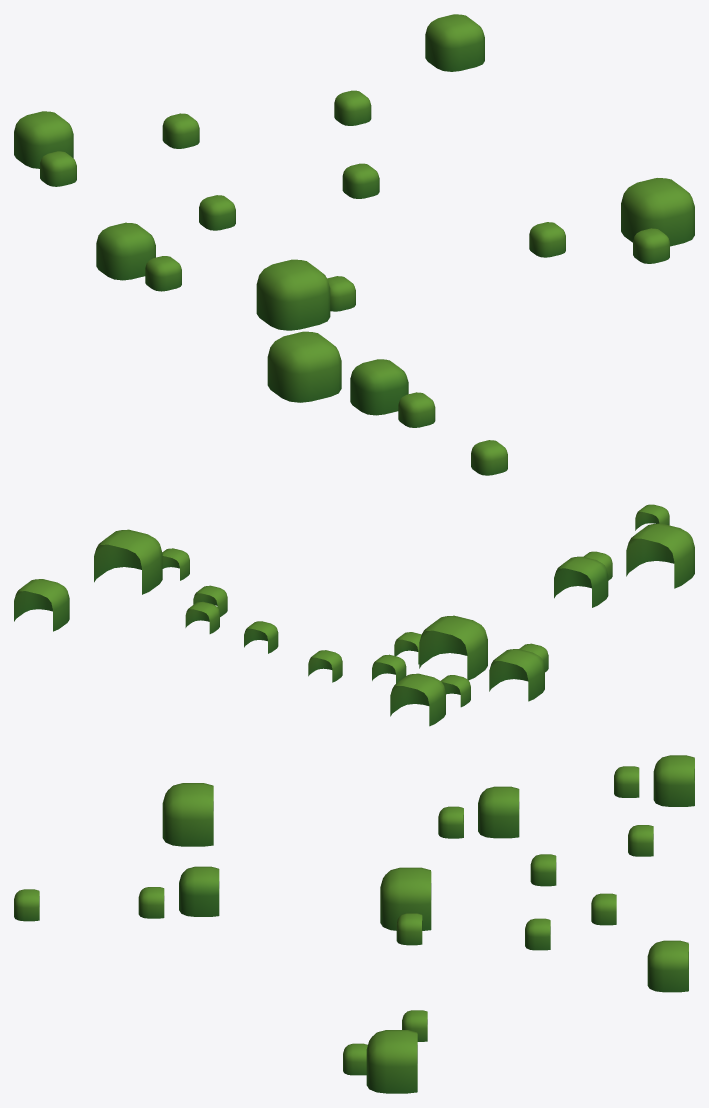
File: Trees.fbx
The picture shows the model from 3 angles, top to bottom: view 1: azimuth 30°, elevation 25°; view 2: azimuth 150°, elevation 25°; view 3: azimuth 270°, elevation 25°; orthographic projection. The views are drawn at different scales.
Visible parts, largest first — view 1: Trees; view 2: Trees; view 3: Trees.
Part boxes in pixels (left/top/right/bottom): Trees: left=14, top=14, right=694, bottom=475; Trees: left=14, top=504, right=694, bottom=726; Trees: left=14, top=755, right=694, bottom=1093.
Size of the model in its own units: 1196 by 258 by 1440.
